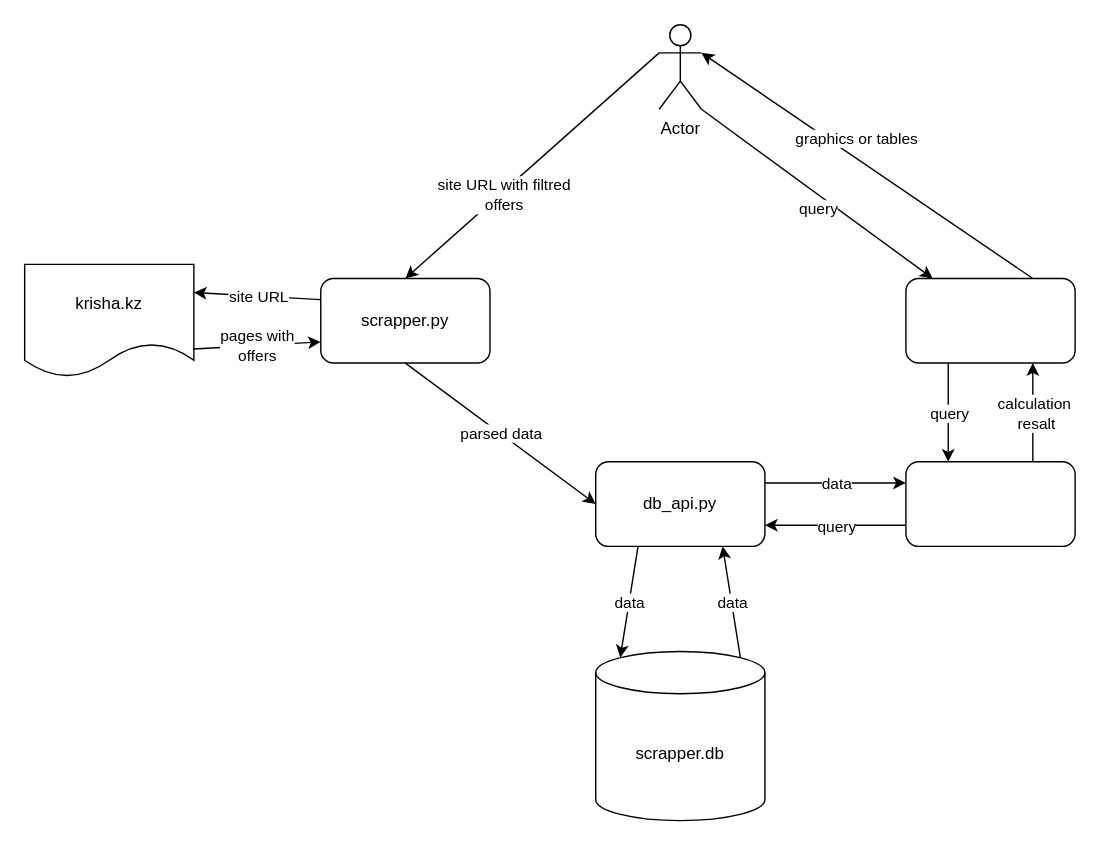
Image size: 1100x846. Some labels were removed from this diagram. The shapes that lost their labels are listed below. From the top down, each one's centre as x and y in pixels, then its label:
At (990,320): "graphics.py".
At (990,503): "statistic.py".
